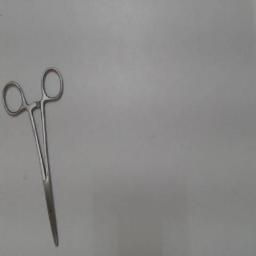Mayo Needle Holder: (0, 62, 68, 254)
